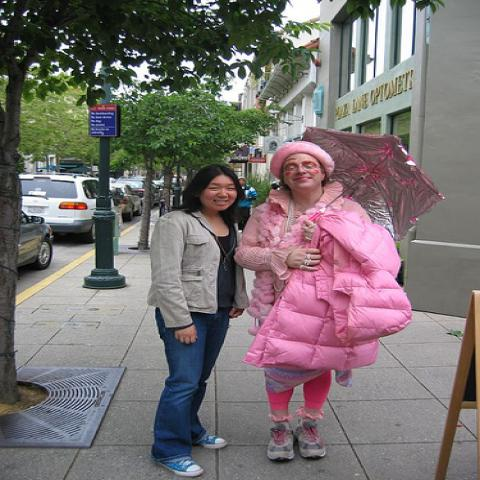car: (13, 172, 96, 239), (17, 210, 53, 270), (117, 179, 163, 206), (112, 183, 142, 222), (152, 176, 177, 194), (108, 175, 122, 203)
